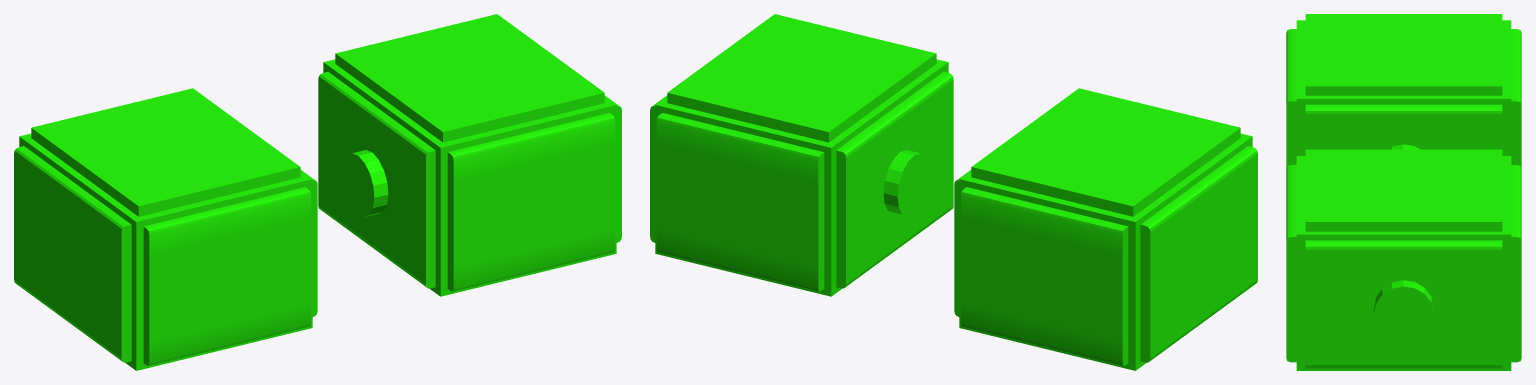
The model's file is SawBoxes.FBX.
3 views of the same model, side by side, from view 1: azimuth 30°, elevation 25°; view 2: azimuth 150°, elevation 25°; view 3: azimuth 270°, elevation 25° (orthographic). The views are drawn at different scales.
Visible parts, largest first — view 1: CentralBox, SideBox; view 2: CentralBox, SideBox; view 3: CentralBox, SideBox.
Part boxes in pixels (x1=…): CentralBox: x1=318, y1=14, x2=621, y2=296; SideBox: x1=14, y1=88, x2=317, y2=370; CentralBox: x1=650, y1=14, x2=953, y2=296; SideBox: x1=954, y1=88, x2=1257, y2=370; CentralBox: x1=1286, y1=149, x2=1521, y2=370; SideBox: x1=1286, y1=14, x2=1521, y2=167.
Bounding box in the file's own units: 15.68 × 4.64 × 6.79.
